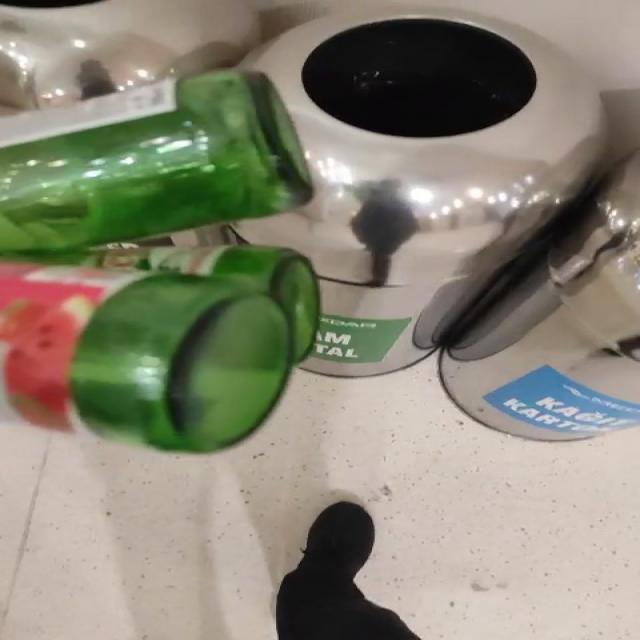glass: (1, 69, 320, 454)
